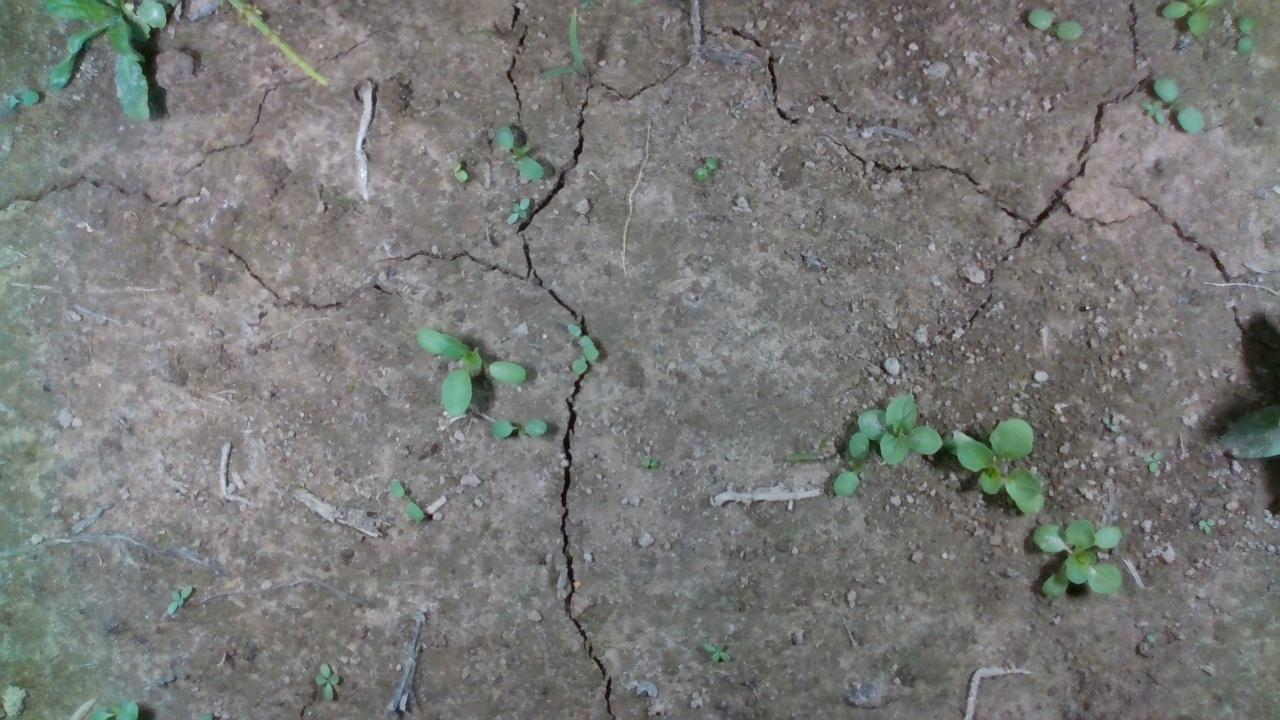weed: (489, 413, 569, 454), (1151, 76, 1206, 133), (625, 446, 689, 477), (383, 481, 429, 524), (1026, 6, 1083, 40), (156, 580, 201, 614), (305, 659, 348, 692), (688, 154, 729, 183), (505, 198, 542, 230), (1231, 14, 1255, 52), (701, 637, 732, 662), (1139, 99, 1168, 125), (446, 158, 472, 181)
